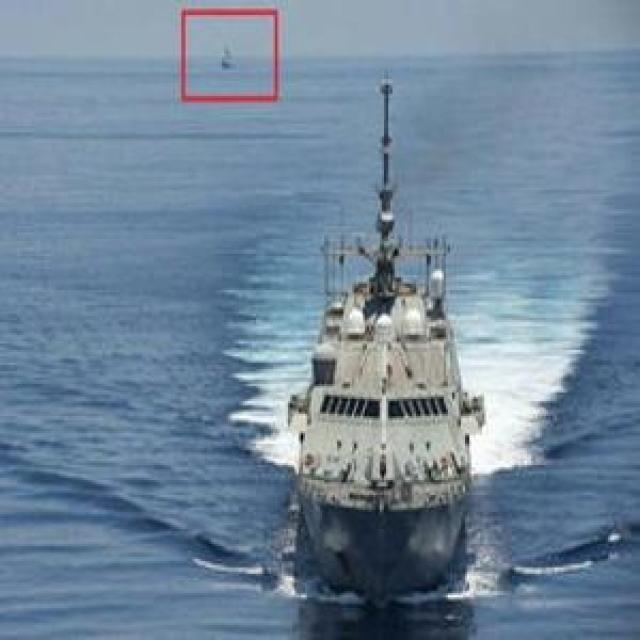navalvessels: (279, 105, 489, 587)
